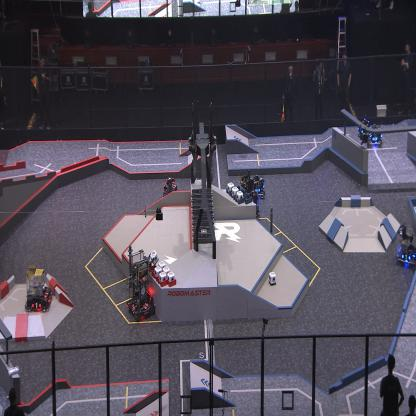car: (126, 248, 156, 320), (23, 262, 52, 313), (238, 172, 260, 221), (395, 223, 416, 271), (247, 174, 266, 202), (162, 176, 179, 204), (367, 123, 383, 148)
